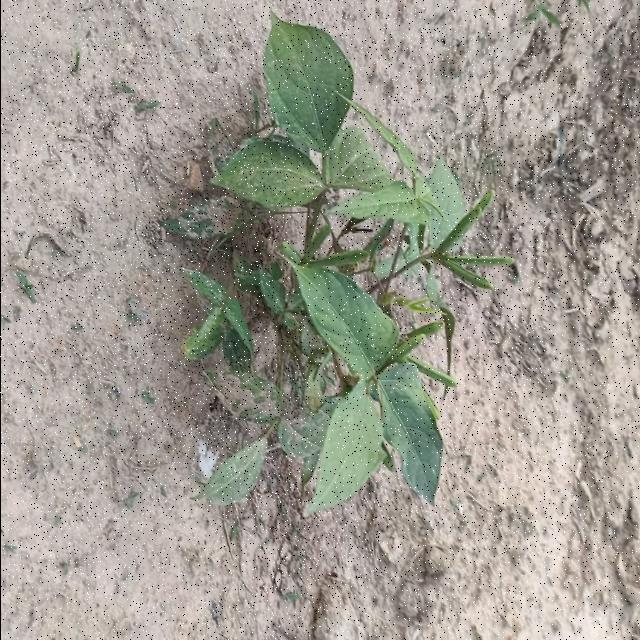plant: (184, 16, 512, 512)
